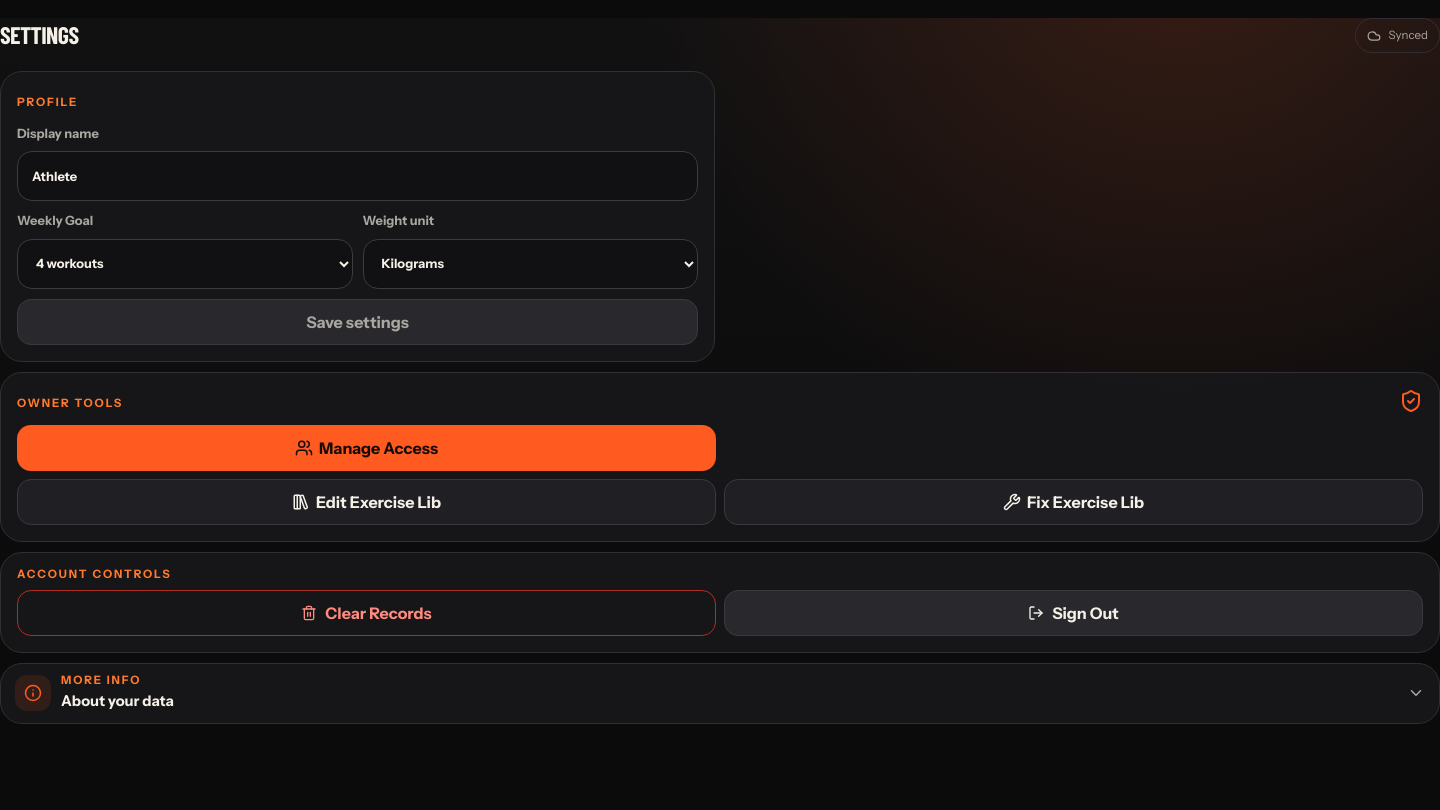
SettingsScreen account controls › limits the fix library queue to active custom exercises
The width and height of the screenshot is (1440, 810).
Click the button "Fix Exercise Lib". click: (1074, 502)
box: top-left (724, 479), bottom-right (1423, 525)
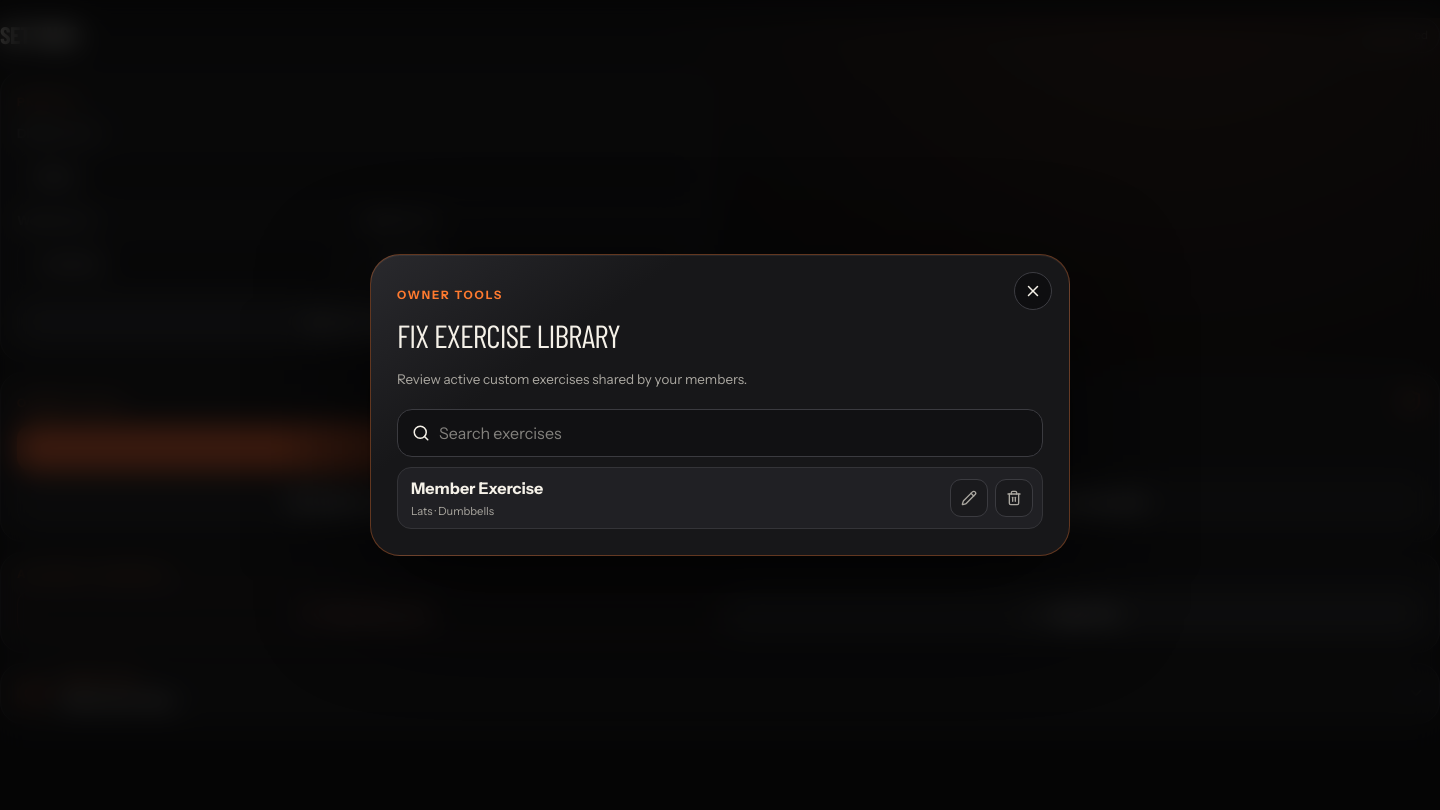
Now the dialog "Fix Exercise Library" is shown, box top-left (370, 254), bottom-right (1070, 556)
Now the text "Member Exercise" is shown, box top-left (411, 478), bottom-right (543, 498)
